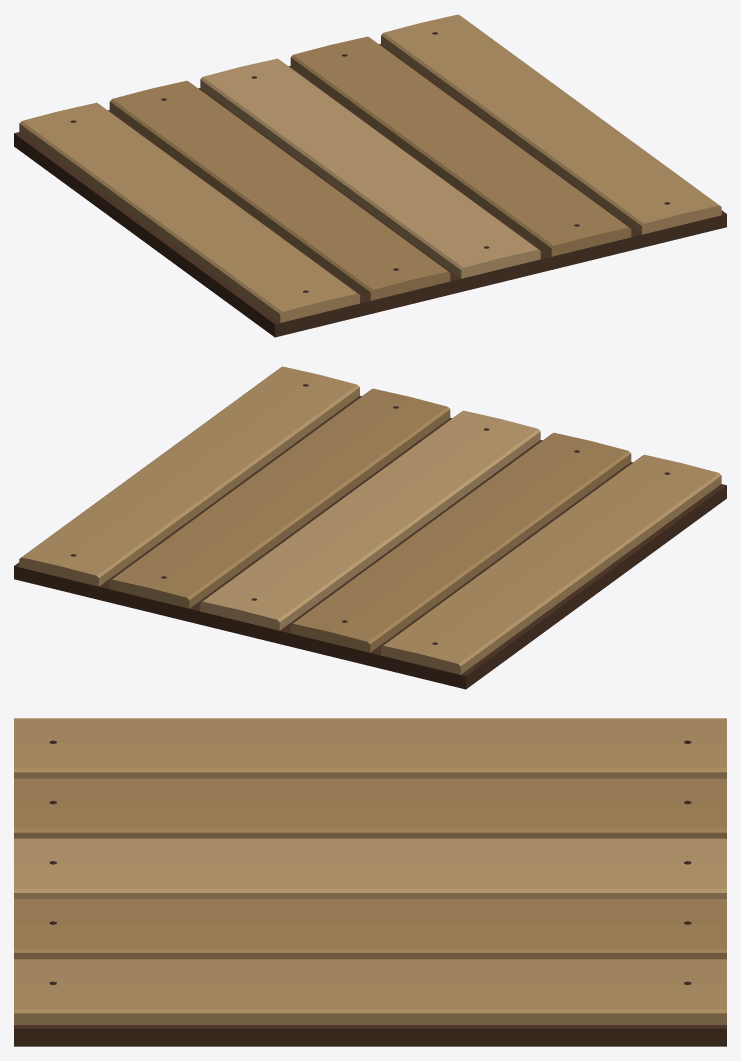
Rendered from plank-walkway-tile-667ff1.glb.
3 renders of one model, top to bottom at view 1: azimuth 30°, elevation 25°; view 2: azimuth 150°, elevation 25°; view 3: azimuth 270°, elevation 25°, orthographic. The views are drawn at different scales.
Parts seen in each view (by area): view 1: plank-walkway-tile-mesh; view 2: plank-walkway-tile-mesh; view 3: plank-walkway-tile-mesh.
Boxes of the visible parts, x1,y1,x2,y2 form: plank-walkway-tile-mesh: (14, 14, 726, 337); plank-walkway-tile-mesh: (14, 366, 726, 689); plank-walkway-tile-mesh: (14, 718, 726, 1046).
Size of the model in its own units: 1 by 0.0528 by 1.
